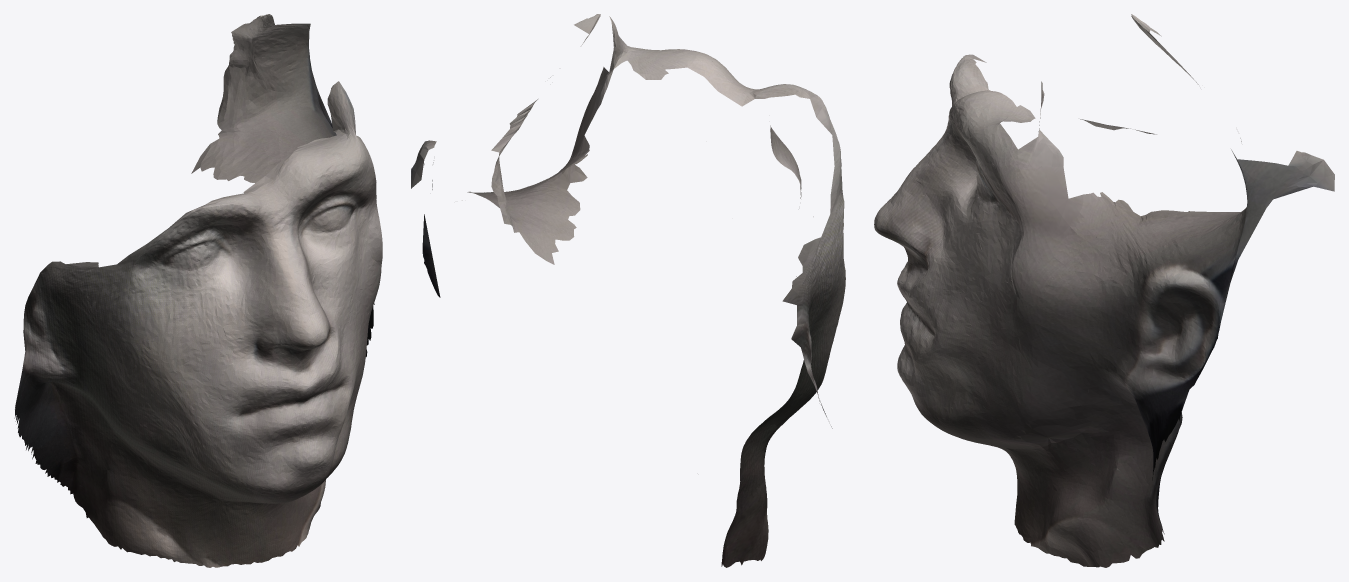
The model's file is glbvalue.glb.
The picture shows the model from 3 angles, left to right: view 1: azimuth 30°, elevation 25°; view 2: azimuth 150°, elevation 25°; view 3: azimuth 270°, elevation 25°; orthographic projection. The views are drawn at different scales.
Visible parts, largest first — view 1: model; view 2: model; view 3: model.
Boxes of the visible parts, bbox=[...] form: model: bbox=[14, 14, 382, 567]; model: bbox=[411, 14, 845, 567]; model: bbox=[874, 14, 1334, 567].
Size of the model in its own units: 184 by 236 by 183.
1 material, 1 textured.
